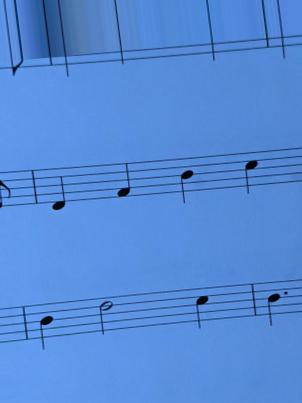B: (34, 296, 58, 356), (174, 155, 201, 205), (262, 278, 283, 332)
D: (45, 163, 70, 217)
F: (112, 154, 137, 201)
HC: (237, 150, 265, 200), (191, 285, 213, 332)
